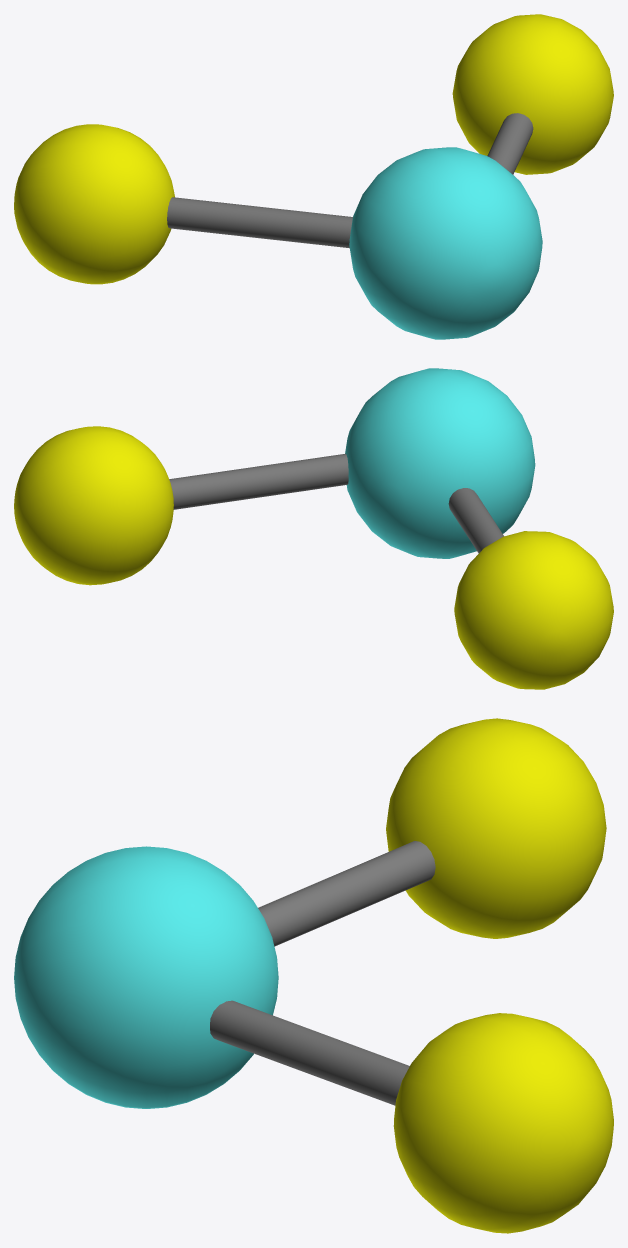
3 renders of one model, top to bottom at view 1: azimuth 30°, elevation 25°; view 2: azimuth 150°, elevation 25°; view 3: azimuth 270°, elevation 25°, orthographic. The views are drawn at different scales.
Parts seen in each view (by area): view 1: H2S; view 2: H2S; view 3: H2S.
Boxes of the visible parts, left/top/right/bottom form: H2S: left=14, top=14, right=613, bottom=339; H2S: left=14, top=368, right=613, bottom=689; H2S: left=14, top=718, right=613, bottom=1233.
Size of the model in its own units: 6.93 by 2 by 4.53.
